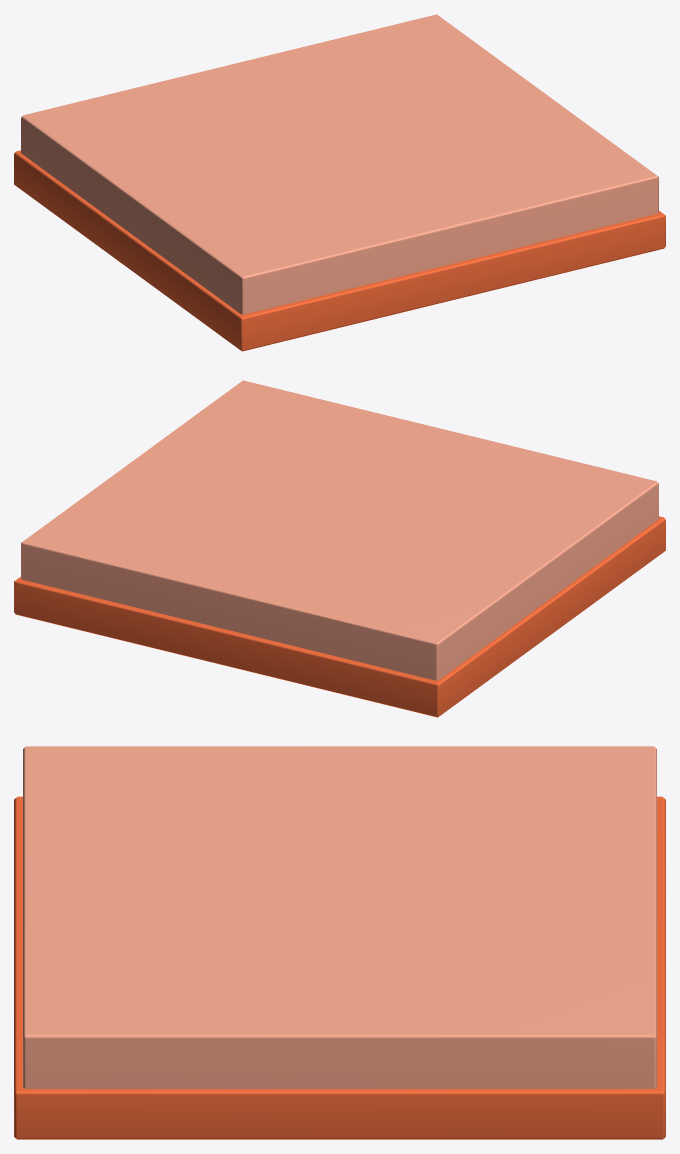
The model's file is Store_7_Base_1.glb.
3 renders of one model, top to bottom at view 1: azimuth 30°, elevation 25°; view 2: azimuth 150°, elevation 25°; view 3: azimuth 270°, elevation 25°, orthographic. The views are drawn at different scales.
Parts seen in each view (by area): view 1: Store_7_Base_1; view 2: Store_7_Base_1; view 3: Store_7_Base_1.
Boxes of the visible parts, x1,y1,x2,y2 form: Store_7_Base_1: [14, 14, 665, 351]; Store_7_Base_1: [14, 380, 665, 717]; Store_7_Base_1: [14, 746, 665, 1139].
Size of the model in its own units: 10.02 by 1.62 by 9.32.
Materials: 1 (1 with a texture image).
